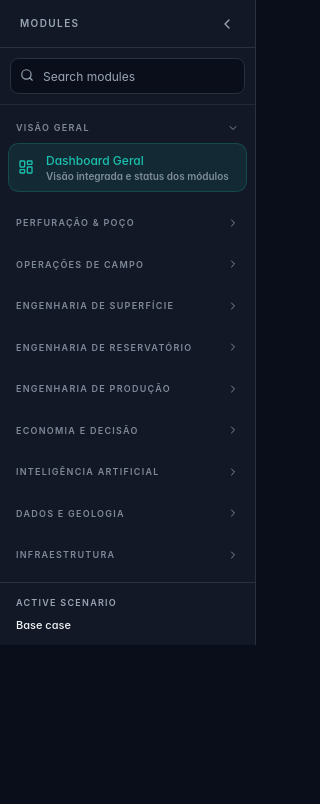
Scenario: Sidebar navigation groups › collapses module groups and opens the selected module's group
The width and height of the screenshot is (320, 804).
Later steps or results of the test are not shown.
Expected: the button "Análise de Teste de Poço" is not shown
Click the button "Engenharia de Reservatório" at point(128, 347), box [8,336,247,358]
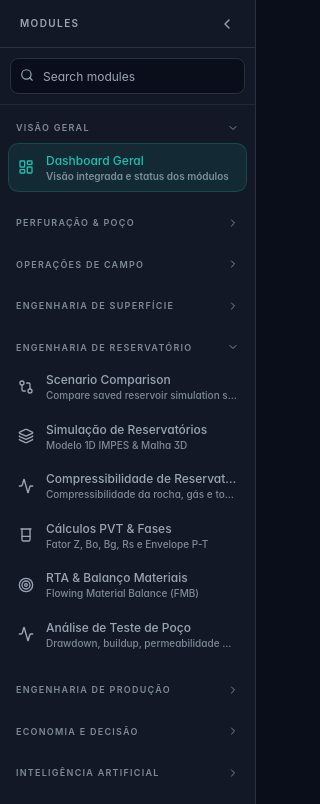
Expected: the button "Engenharia de Reservatório" is expanded, [8,336,247,358]
Expected: the button "Análise de Teste de Poço" is shown, [8,610,247,659]
